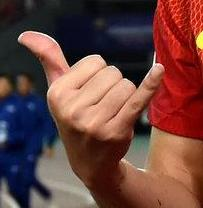clockwise: (14, 28, 168, 173)
